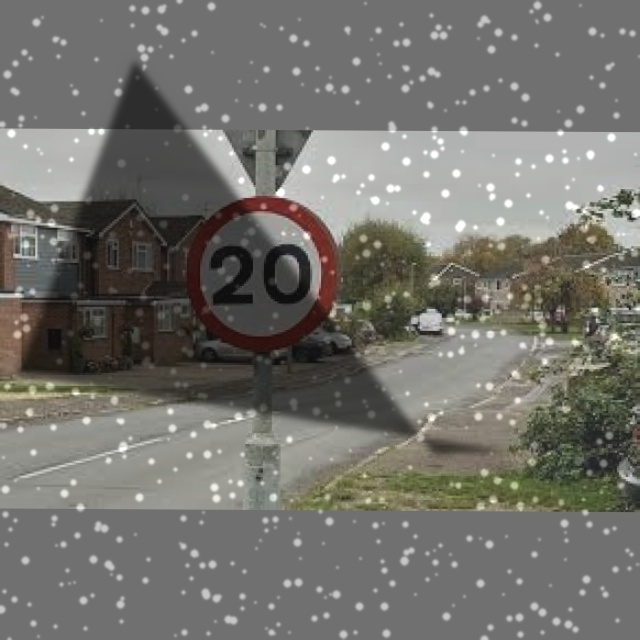Speed_Limit_20: (186, 195, 338, 349)
